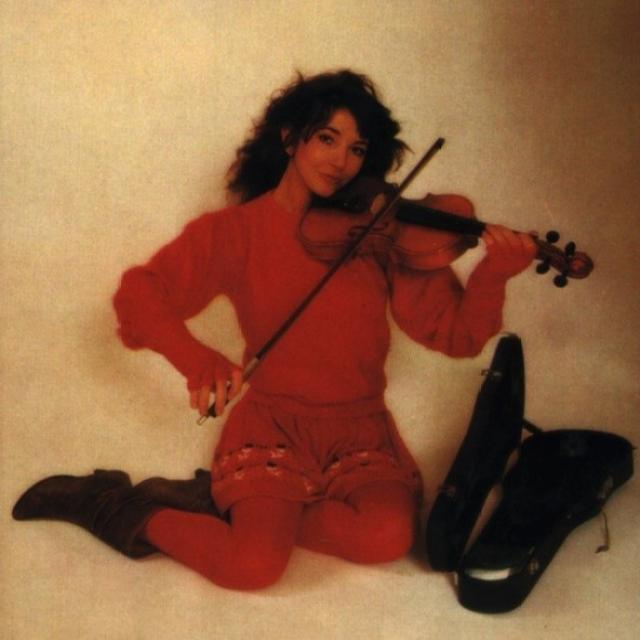violin: (300, 169, 596, 293)
